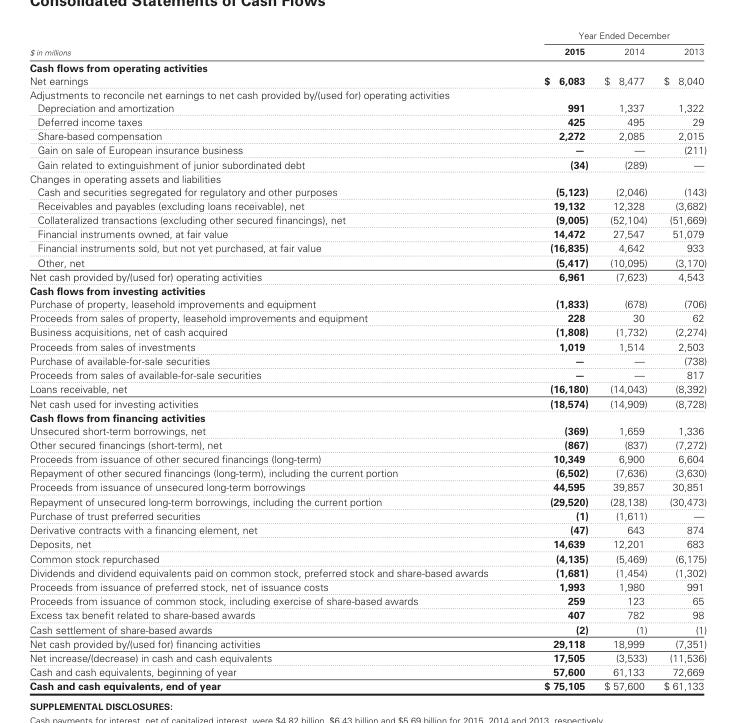table: (28, 29, 706, 692)
table column: (28, 29, 515, 692), (515, 29, 595, 692), (595, 29, 654, 692), (654, 29, 706, 692)
table column header: (28, 29, 706, 58)
table projected row header: (28, 58, 706, 73), (28, 86, 706, 100), (28, 170, 706, 184), (28, 283, 706, 296), (28, 410, 706, 423)
table row: (28, 42, 706, 58), (28, 58, 706, 73), (28, 254, 706, 269), (28, 338, 706, 353), (28, 395, 706, 410), (28, 493, 706, 508), (28, 550, 706, 565), (28, 621, 706, 636), (28, 86, 706, 100), (28, 100, 706, 114), (28, 114, 706, 128), (28, 128, 706, 142), (28, 142, 706, 156), (28, 156, 706, 170), (28, 170, 706, 184), (28, 184, 706, 198), (28, 198, 706, 212), (28, 212, 706, 226), (28, 226, 706, 240), (28, 240, 706, 254), (28, 269, 706, 283), (28, 296, 706, 310), (28, 310, 706, 324), (28, 324, 706, 338), (28, 353, 706, 367), (28, 367, 706, 381), (28, 381, 706, 395), (28, 423, 706, 437), (28, 437, 706, 451), (28, 451, 706, 465), (28, 465, 706, 479), (28, 479, 706, 493), (28, 508, 706, 522), (28, 522, 706, 536), (28, 536, 706, 550), (28, 565, 706, 579), (28, 579, 706, 593), (28, 593, 706, 607), (28, 607, 706, 621), (28, 636, 706, 650), (28, 650, 706, 664), (28, 664, 706, 678), (28, 678, 706, 692), (28, 29, 706, 42), (28, 73, 706, 86), (28, 283, 706, 296), (28, 410, 706, 423)
table spanning cell: (28, 29, 515, 58), (515, 29, 706, 42)
